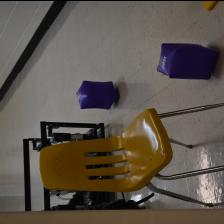cone: (202, 0, 218, 10)
cube: (156, 41, 219, 80), (75, 79, 119, 109)
